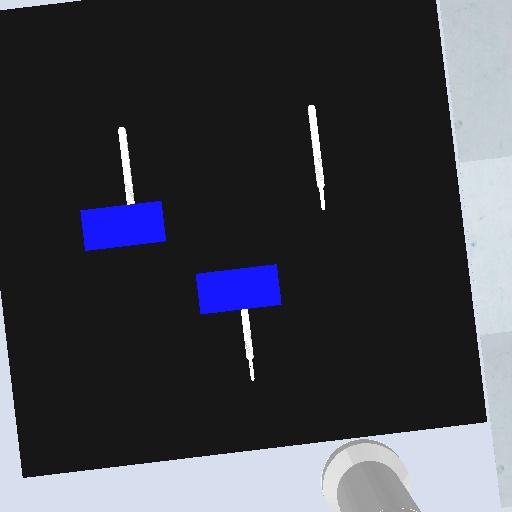bisturi: (304, 102, 333, 212), (113, 125, 138, 207), (239, 306, 259, 383)
